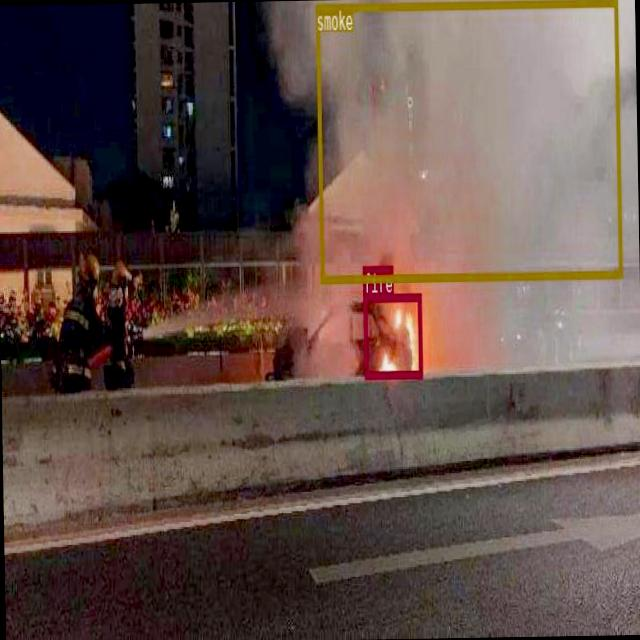fire: (362, 292, 422, 377)
smoke: (315, 0, 622, 281)
